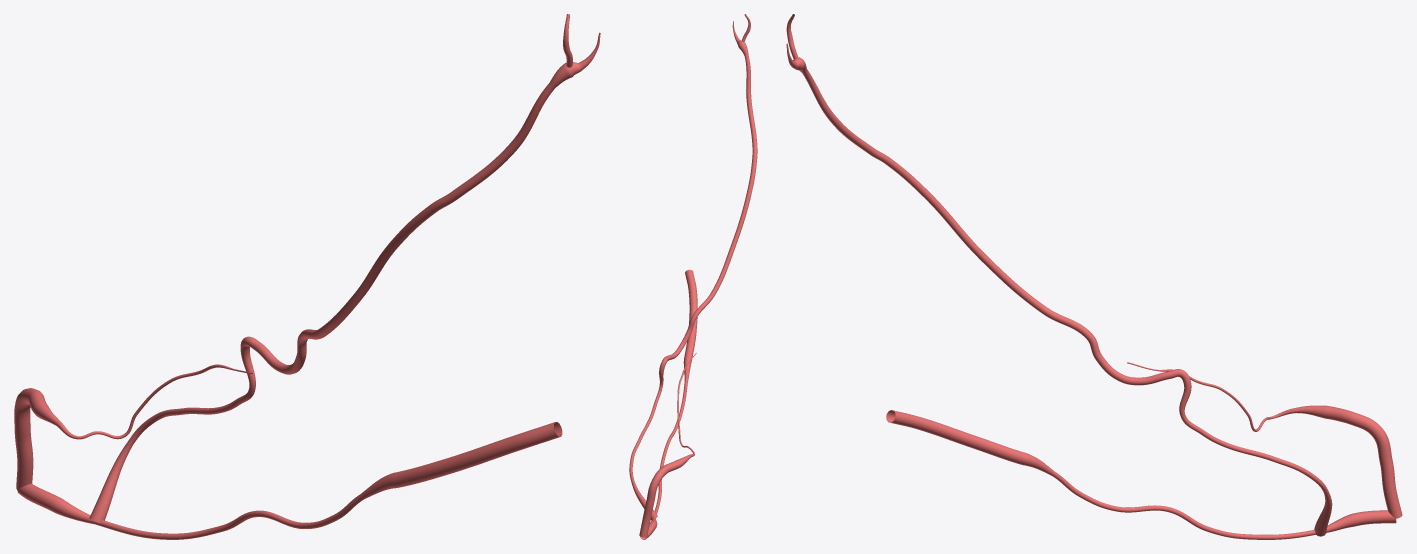
File: Inferior_palpebral_arch.r_BezierCurve.140.glb
3 renders of one model, left to right at view 1: azimuth 30°, elevation 25°; view 2: azimuth 150°, elevation 25°; view 3: azimuth 270°, elevation 25°, orthographic. The views are drawn at different scales.
Visible parts, largest first — view 1: Inferior_palpebral_arch.r_BezierCurve.140; view 2: Inferior_palpebral_arch.r_BezierCurve.140; view 3: Inferior_palpebral_arch.r_BezierCurve.140.
Part boxes in pixels (box(x1,y1,x2,y2)): Inferior_palpebral_arch.r_BezierCurve.140: box(14, 14, 600, 539); Inferior_palpebral_arch.r_BezierCurve.140: box(629, 14, 757, 539); Inferior_palpebral_arch.r_BezierCurve.140: box(786, 14, 1402, 539).
Bounding box in the file's own units: 0.0187 × 0.0489 × 0.0472.
